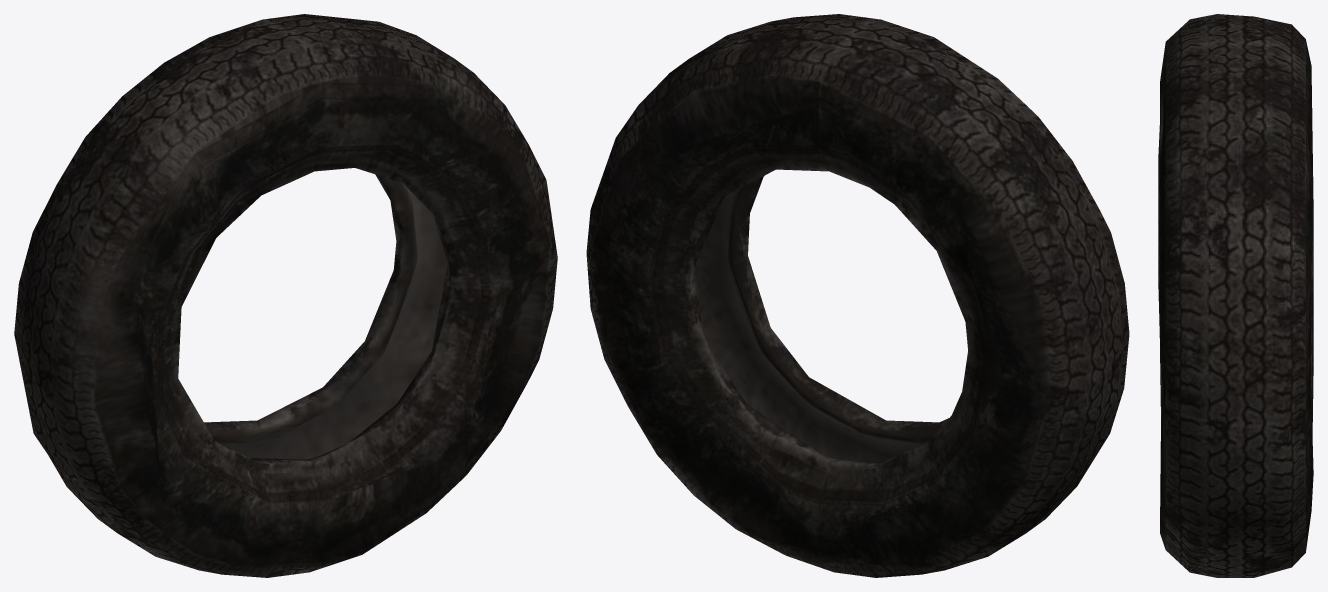
File: tyre.glb
3 views of the same model, side by side, from view 1: azimuth 30°, elevation 25°; view 2: azimuth 150°, elevation 25°; view 3: azimuth 270°, elevation 25° (orthographic). The views are drawn at different scales.
Parts seen in each view (by area): view 1: old_tyre; view 2: old_tyre; view 3: old_tyre.
Boxes of the visible parts, x1,y1,x2,y2 form: old_tyre: [14, 14, 557, 577]; old_tyre: [586, 14, 1129, 577]; old_tyre: [1158, 14, 1313, 577].
Bounding box in the file's own units: 0.6 × 0.6 × 0.165.
Materials: 1 (1 with a texture image).
